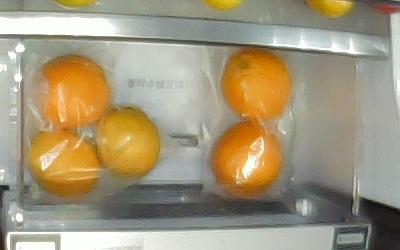orange_vinyl: (211, 121, 282, 197), (39, 55, 109, 131), (221, 49, 292, 123), (27, 131, 99, 196), (96, 107, 159, 178)
